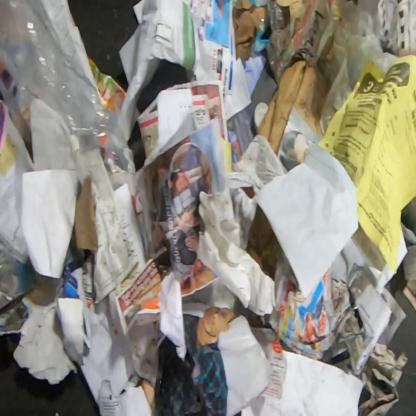cardboard: (12, 260, 91, 386), (256, 61, 323, 154), (245, 203, 282, 278), (232, 0, 271, 62), (71, 173, 98, 253), (196, 306, 243, 350), (275, 0, 302, 15)
rigid_plastic: (252, 102, 269, 134)
soft_plastic: (0, 0, 132, 174), (260, 0, 400, 136)
